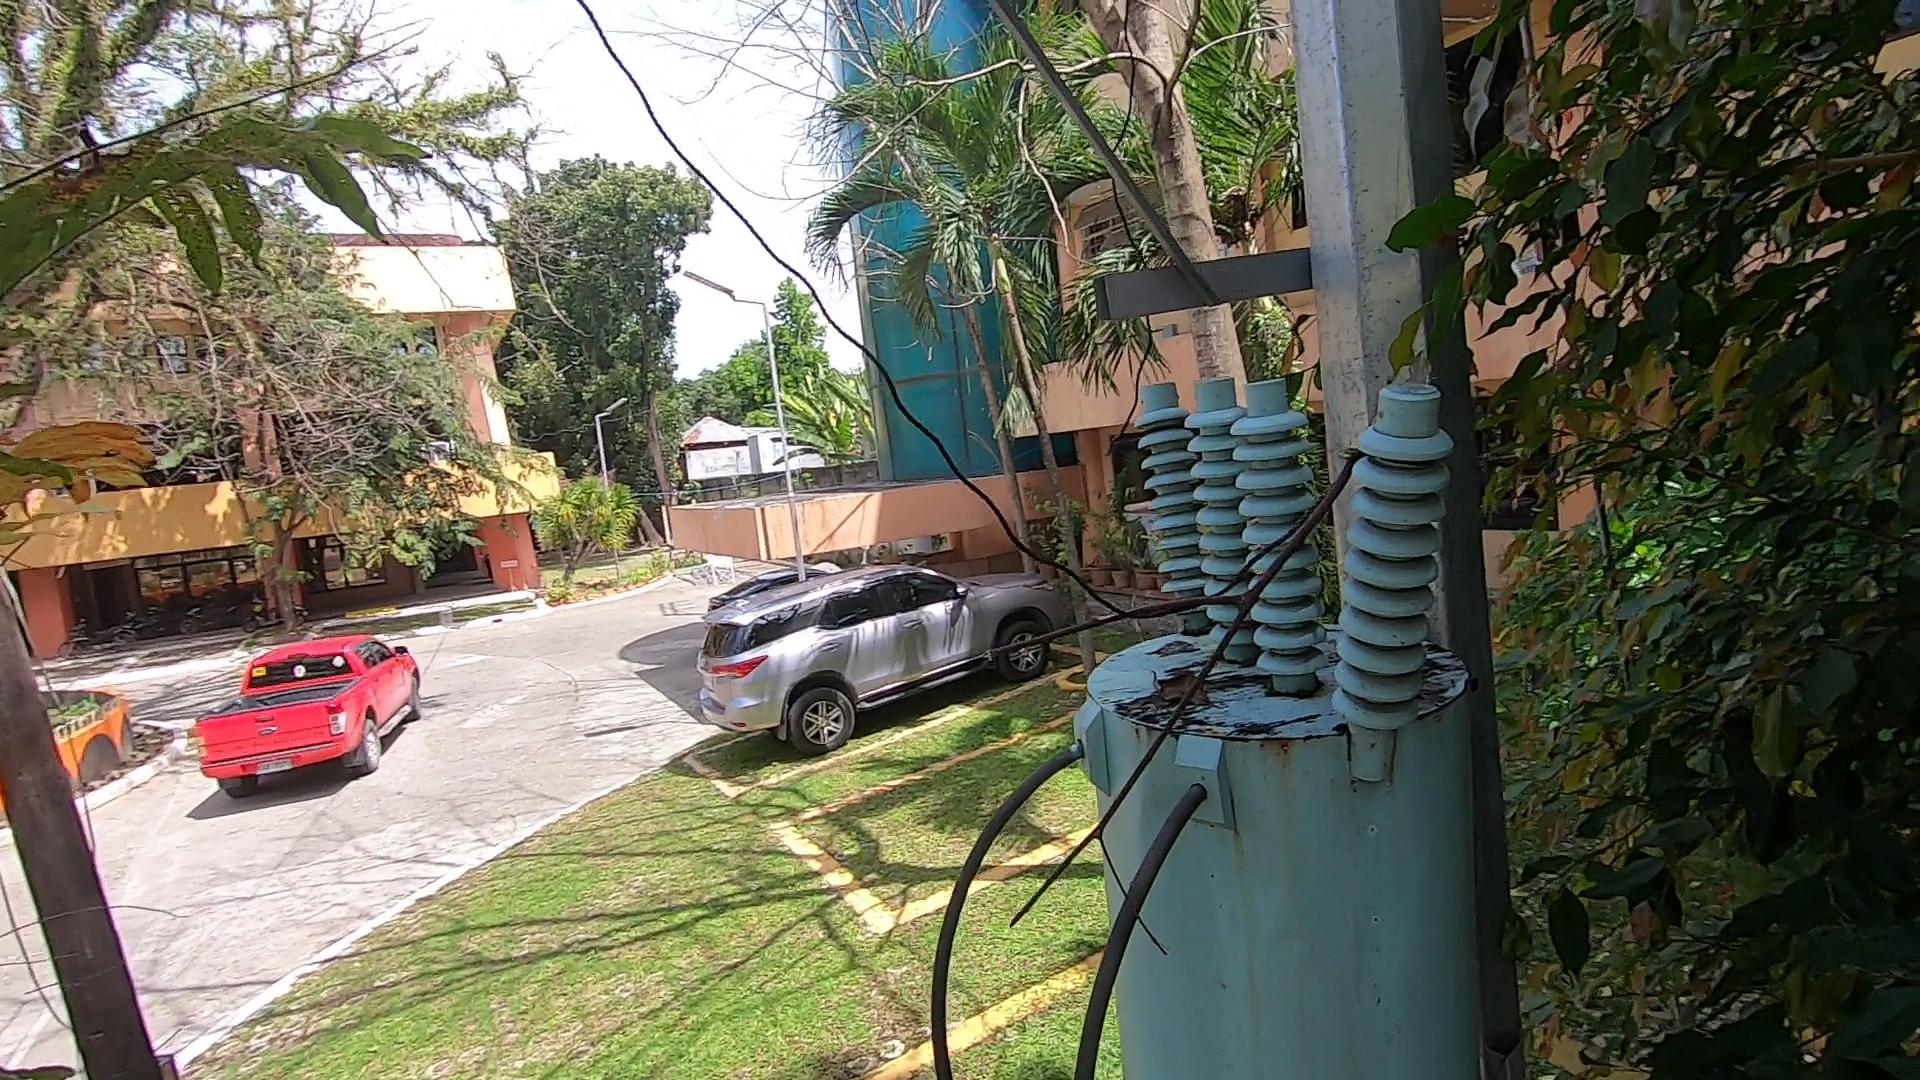leaf: (1131, 657, 1217, 721)
tree branch: (835, 418, 1486, 975)
